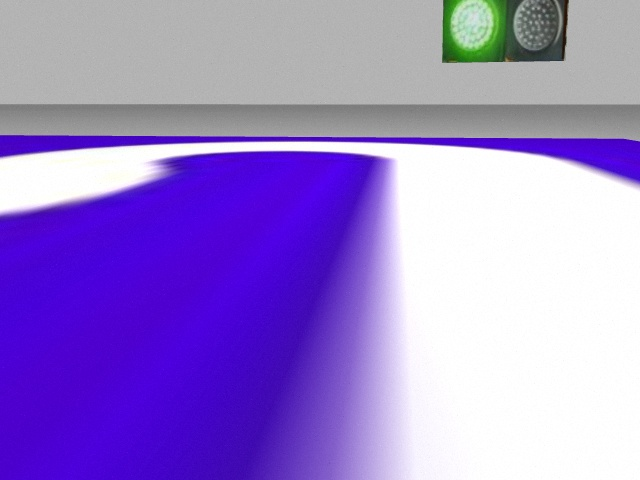green: (442, 2, 503, 61)
